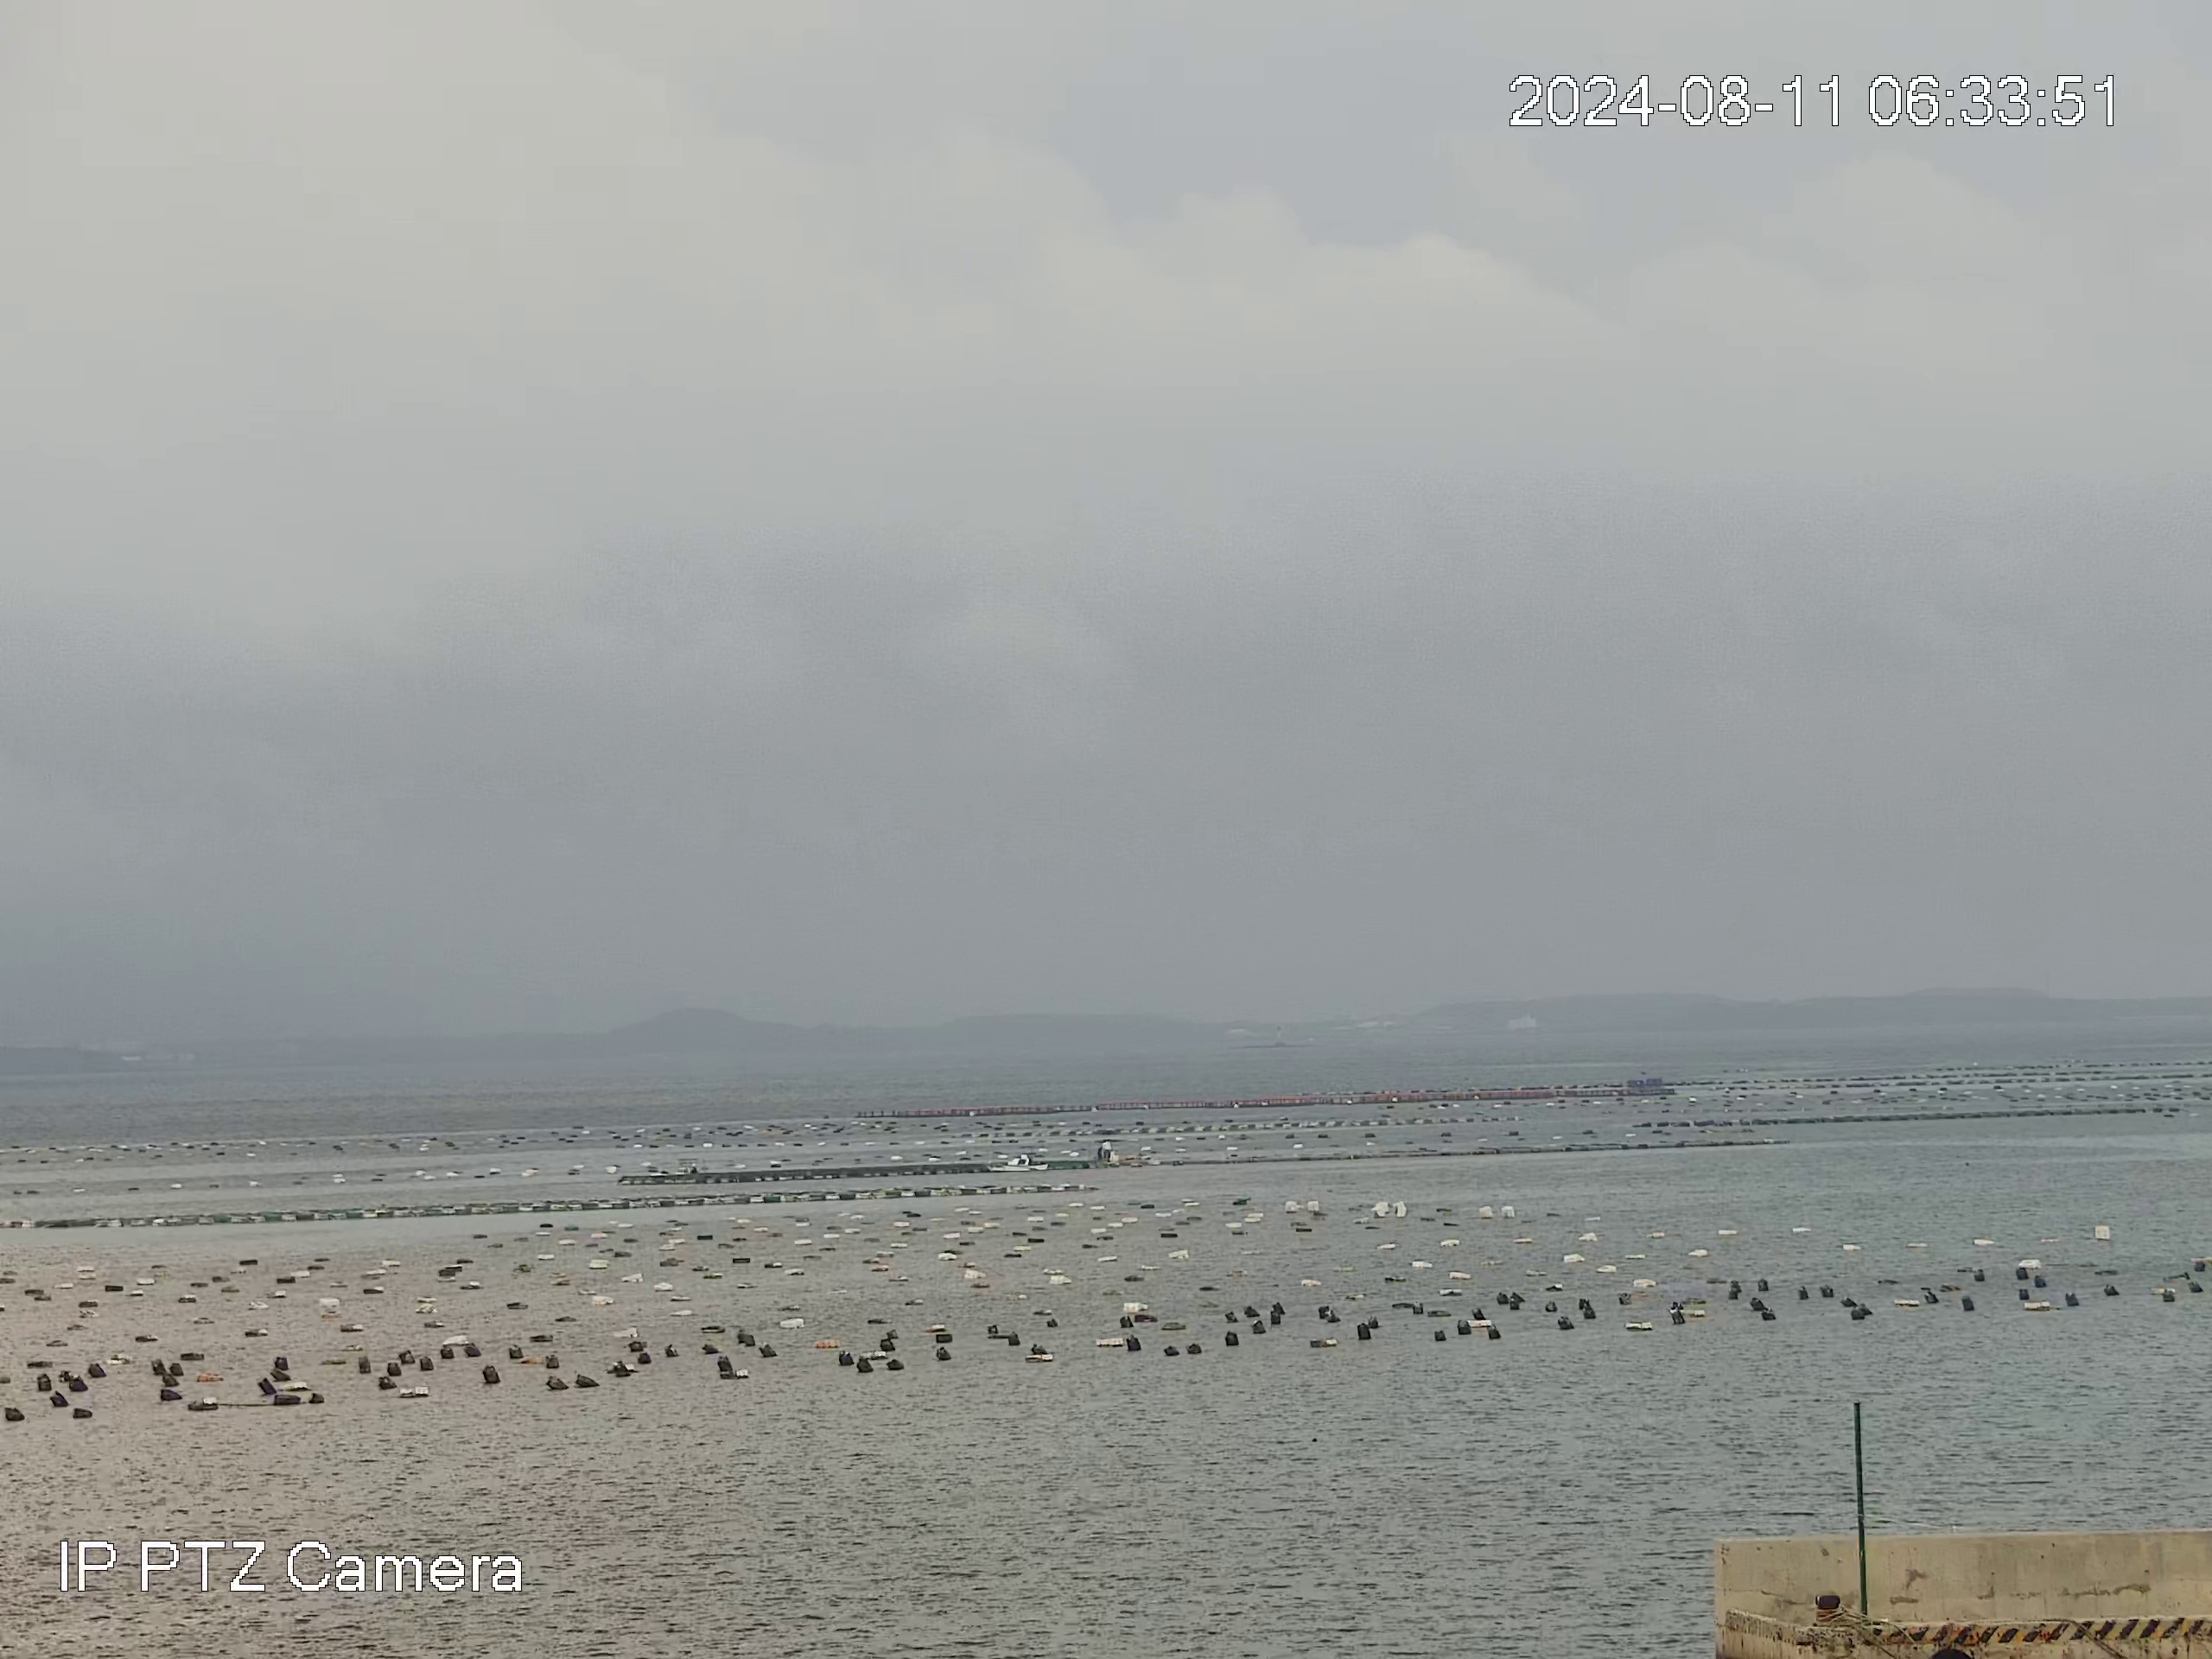boat: (984, 1152, 1049, 1173)
